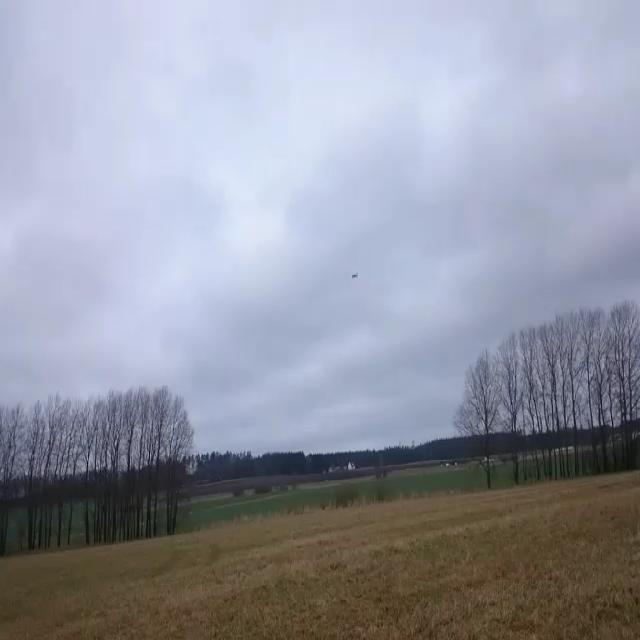Drone: (342, 262, 368, 285)
